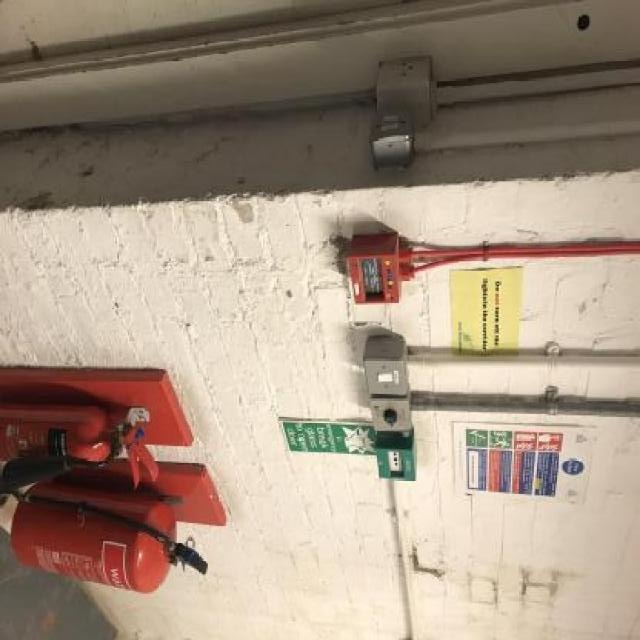fire extinguisher: (11, 482, 209, 595), (0, 396, 159, 491)
